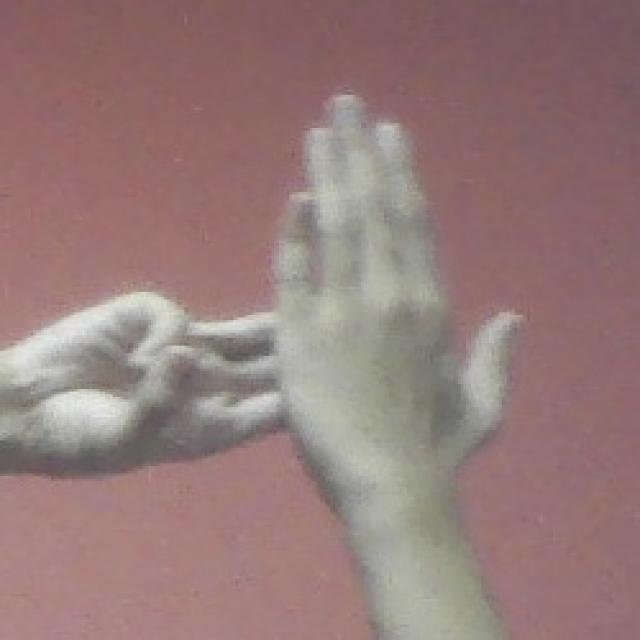Alphabet-M: (0, 69, 522, 481)
